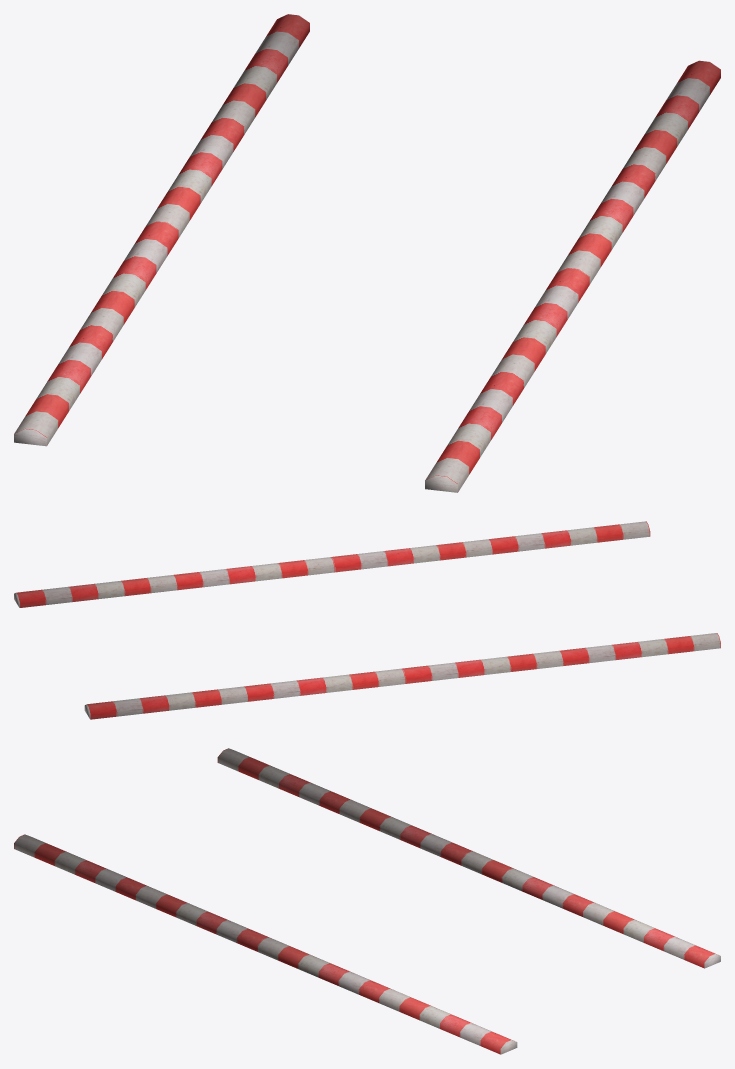
File: crub_track_straight_45.fbx
3 views of the same model, one above another, from view 1: azimuth 30°, elevation 25°; view 2: azimuth 150°, elevation 25°; view 3: azimuth 270°, elevation 25° (orthographic). The views are drawn at different scales.
Visible parts, largest first — view 1: curb_track_straight; view 2: curb_track_straight; view 3: curb_track_straight.
Boxes of the visible parts, x1=… form: curb_track_straight: x1=14, y1=14, x2=720, y2=492; curb_track_straight: x1=14, y1=521, x2=720, y2=719; curb_track_straight: x1=14, y1=748, x2=720, y2=1054.
Bounding box in the file's own units: 411 × 6.43 × 411.
